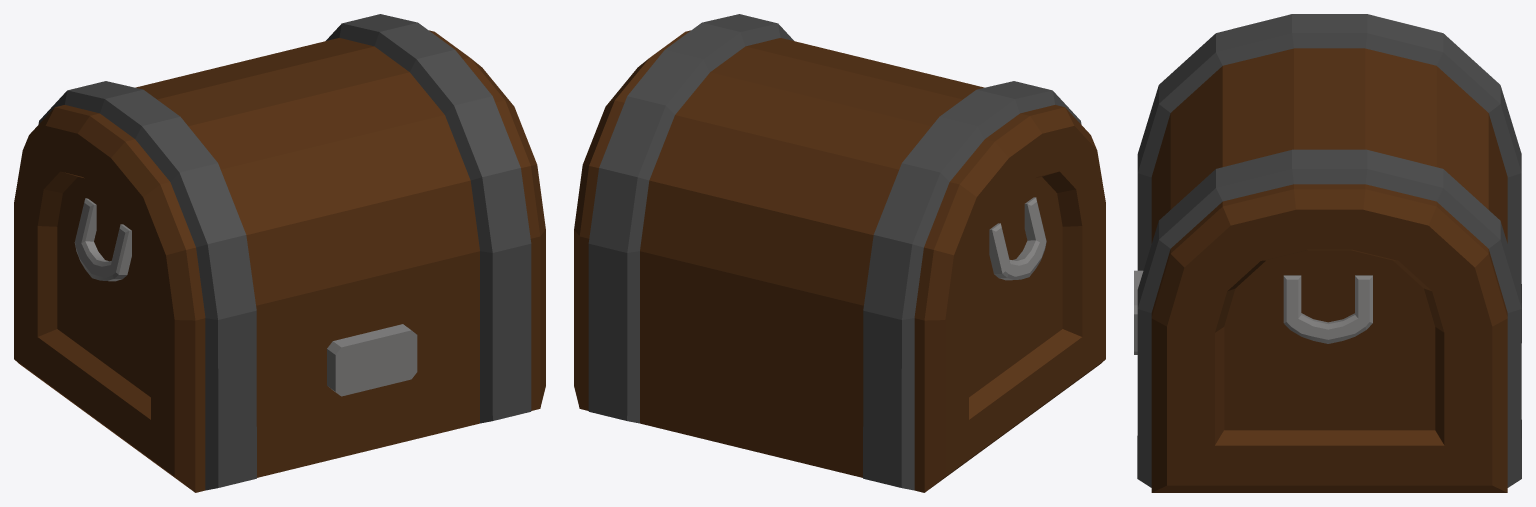
Rendered from bau.fbx.
3 renders of one model, left to right at view 1: azimuth 30°, elevation 25°; view 2: azimuth 150°, elevation 25°; view 3: azimuth 270°, elevation 25°, orthographic.
Parts seen in each view (by area): view 1: Bau; view 2: Bau; view 3: Bau.
Boxes of the visible parts, x1,y1,x2,y2 form: Bau: (14,14,545,492); Bau: (574,14,1105,492); Bau: (1134,14,1521,492).
Bounding box in the file's own units: 102 × 80.09 × 88.98.
